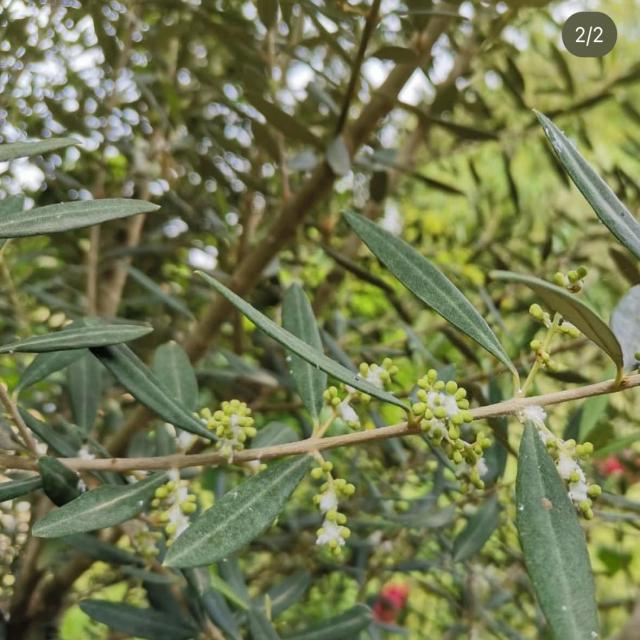Psyllid: (517, 405, 601, 519), (412, 369, 489, 493), (311, 455, 354, 556), (200, 400, 256, 463), (153, 470, 197, 546), (324, 384, 369, 430), (534, 308, 580, 345), (359, 357, 399, 391), (554, 266, 587, 294)
